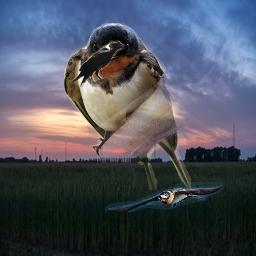Crow: (69, 39, 125, 87)
Swallow: (64, 23, 191, 190), (105, 182, 223, 212)
